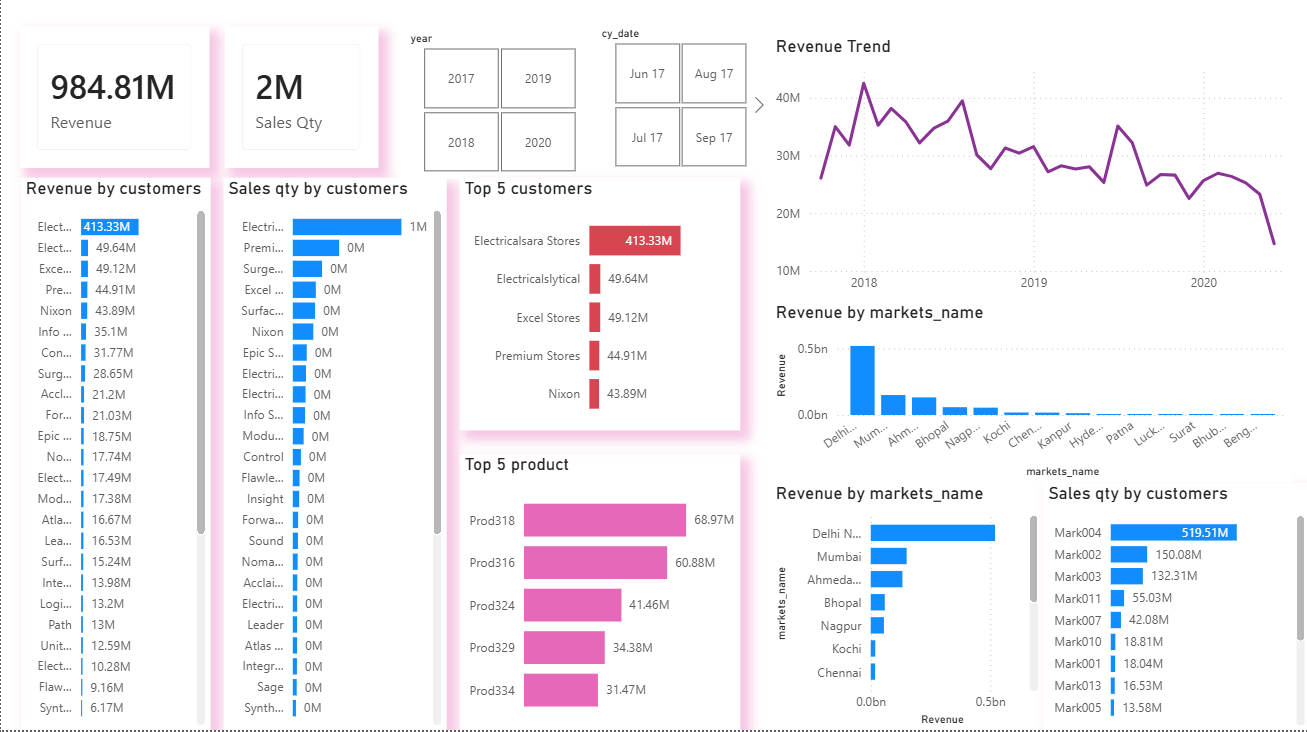

This screenshot's page, from the dashboard's own definition file:
{"tool":"powerbi","page":{"name":"Page 1","canvas":[1280,720],"ordinal":0},"visuals":[{"type":"cardVisual","fields":{"Data":["BaseMeasure.Revenue"]},"box":[18.6,31.4,185.7,138.6],"z":0},{"type":"cardVisual","fields":{"Data":["BaseMeasure.Sales Qty"]},"box":[218.6,31.4,150,138.6],"z":1000},{"type":"FlowVisual_C29F1DCC_81F5_4973_94AD_0517D44CC06A","box":[54,355,301,301],"z":2000},{"type":"barChart","title":"Revenue by customers","fields":{"Y":["BaseMeasure.Revenue"],"Category":["customers.custmer_name"]},"box":[19.2,179.8,185.2,540.7],"z":3000},{"type":"barChart","title":"Sales qty by customers","fields":{"Y":["BaseMeasure.Sales Qty"],"Category":["customers.custmer_name"]},"box":[218.2,179.8,218.2,540.7],"z":4000},{"type":"slicer","fields":{"Values":["date.year"]},"box":[387.1,31.4,198.6,148.6],"z":5000},{"type":"slicer","fields":{"Values":["date.cy_date"]},"box":[574.3,27.1,178.6,148.6],"z":6000},{"type":"barChart","title":"Top 5 customers","fields":{"Y":["BaseMeasure.Revenue"],"Category":["customers.custmer_name"]},"box":[448.6,180,274.3,247.1],"z":7000},{"type":"barChart","title":"Top 5 product","fields":{"Y":["BaseMeasure.Revenue"],"Category":["transactions.product_code"]},"box":[448.6,450,274.3,270],"z":8000},{"type":"barChart","fields":{"Category":["markets.markets_name"],"Y":["BaseMeasure.Revenue"]},"box":[753.3,477.5,266.2,242.9],"z":9000},{"type":"barChart","title":"Sales qty by customers","fields":{"Y":["BaseMeasure.Revenue"],"Category":["markets.markets_code"]},"box":[1019.6,477.5,260.7,242.9],"z":10000},{"type":"lineChart","title":"Revenue Trend","fields":{"Y":["BaseMeasure.Revenue"],"Category":["date.cy_date.Variation.Date Hierarchy.Year","date.cy_date.Variation.Date Hierarchy.Quarter","date.cy_date.Variation.Date Hierarchy.Month","date.cy_date.Variation.Date Hierarchy.Day"]},"box":[753.3,39.8,510.5,260.7],"z":11000},{"type":"clusteredColumnChart","fields":{"Category":["markets.markets_name"],"Y":["BaseMeasure.Revenue"]},"box":[753.3,300.5,510.5,177],"z":12000}]}

Visuals, with their boxes in screenshot pixels (x1, y1, x2, y2), scaled from the page's 1280x720 canvas onto the 1307x732 screenshot:
cardVisual - BaseMeasure.Revenue: [x1=19, y1=32, x2=209, y2=173]
cardVisual - BaseMeasure.Sales Qty: [x1=223, y1=32, x2=376, y2=173]
FlowVisual_C29F1DCC_81F5_4973_94AD_0517D44CC06A: [x1=55, y1=361, x2=362, y2=667]
"Revenue by customers" barChart: [x1=20, y1=183, x2=209, y2=731]
"Sales qty by customers" barChart: [x1=223, y1=183, x2=446, y2=731]
slicer - date.year: [x1=395, y1=32, x2=598, y2=183]
slicer - date.cy_date: [x1=586, y1=28, x2=769, y2=179]
"Top 5 customers" barChart: [x1=458, y1=183, x2=738, y2=434]
"Top 5 product" barChart: [x1=458, y1=458, x2=738, y2=731]
barChart - markets.markets_name x BaseMeasure.Revenue: [x1=769, y1=485, x2=1041, y2=731]
"Sales qty by customers" barChart: [x1=1041, y1=485, x2=1306, y2=731]
"Revenue Trend" lineChart: [x1=769, y1=40, x2=1290, y2=306]
clusteredColumnChart - markets.markets_name x BaseMeasure.Revenue: [x1=769, y1=306, x2=1290, y2=485]
